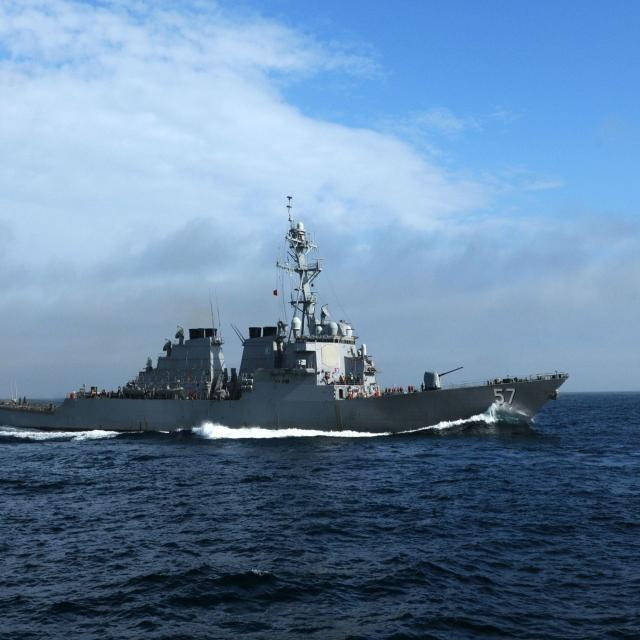navalvessels: (0, 208, 578, 458)
